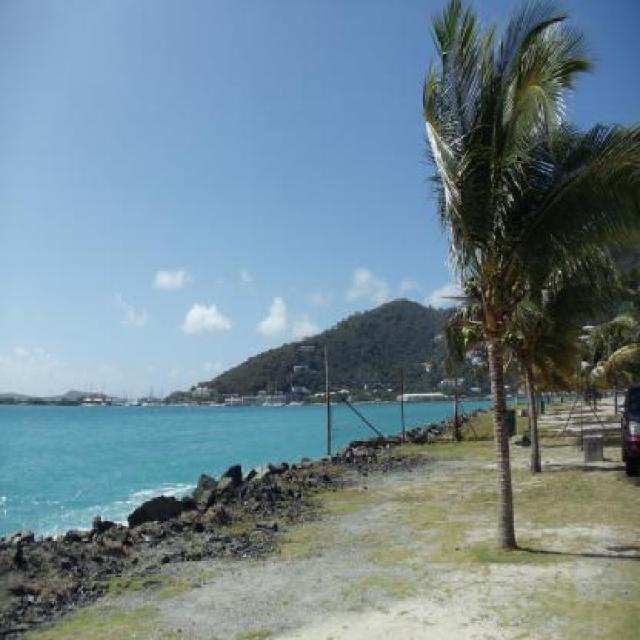Coconut: (460, 276, 511, 350), (504, 326, 520, 357)
